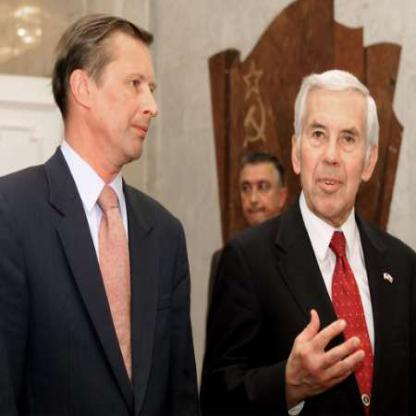face: (91, 29, 170, 164), (301, 76, 369, 218), (241, 153, 282, 229)
